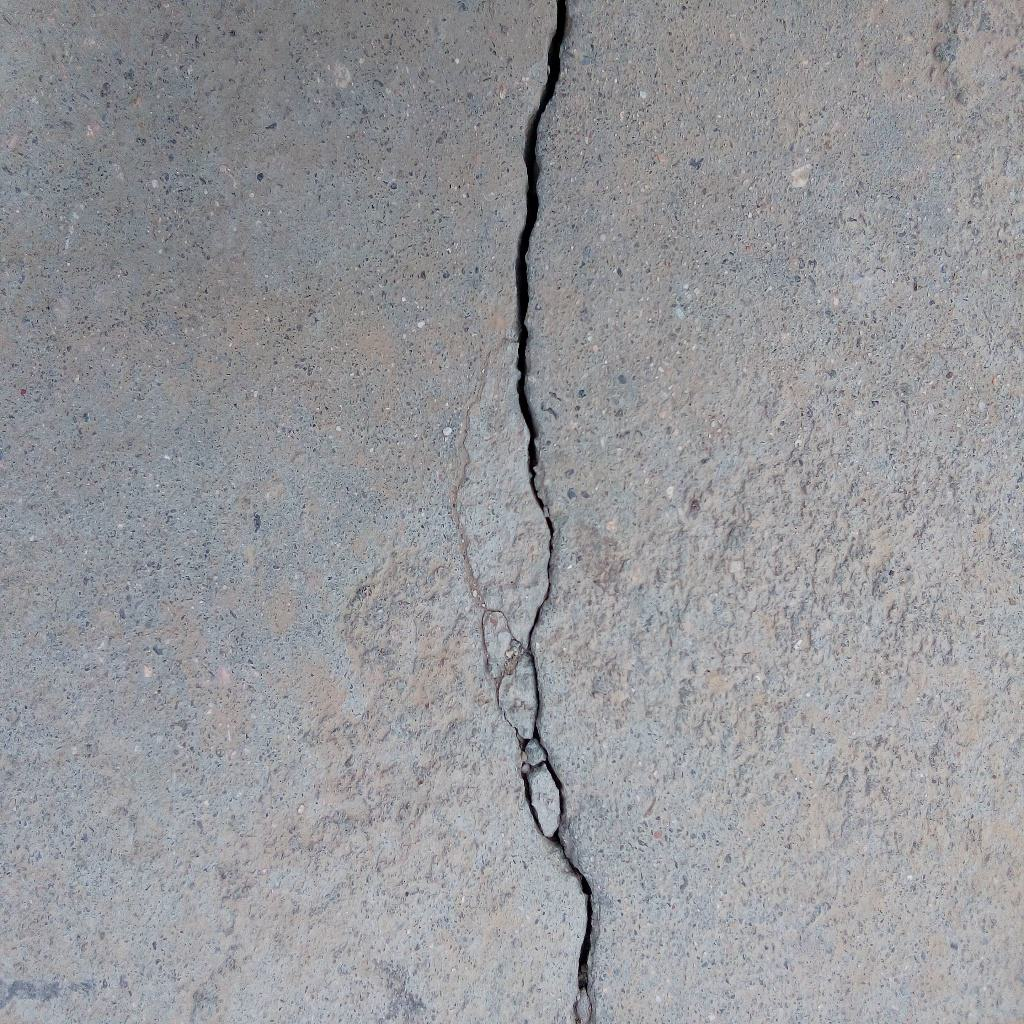Crack: (515, 1, 595, 1024)
